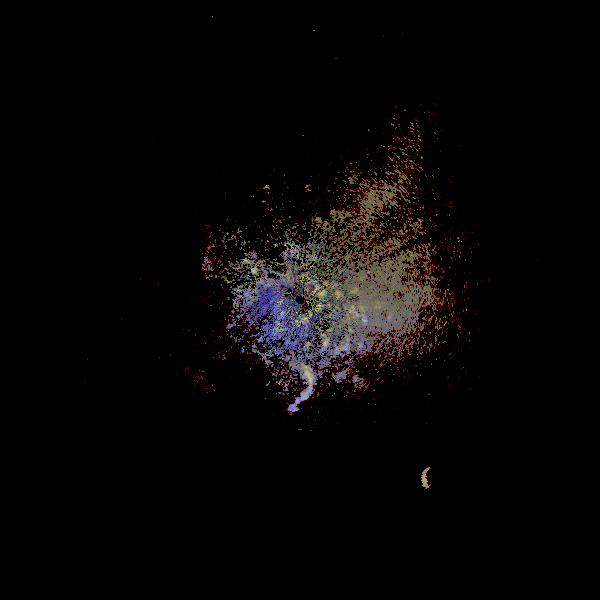roost: (380, 170, 488, 278), (412, 441, 484, 513), (264, 354, 327, 417), (259, 181, 280, 202)
